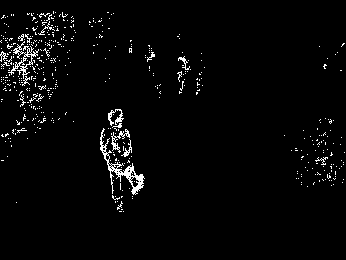person: (99, 108, 145, 214)
